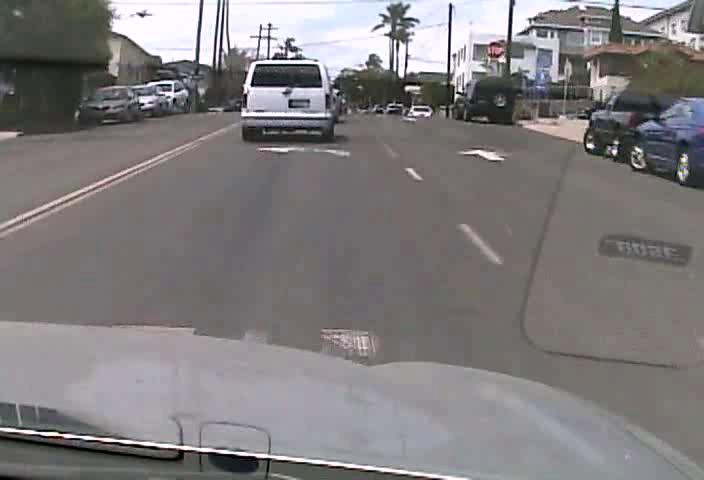stop: (485, 41, 504, 59)
